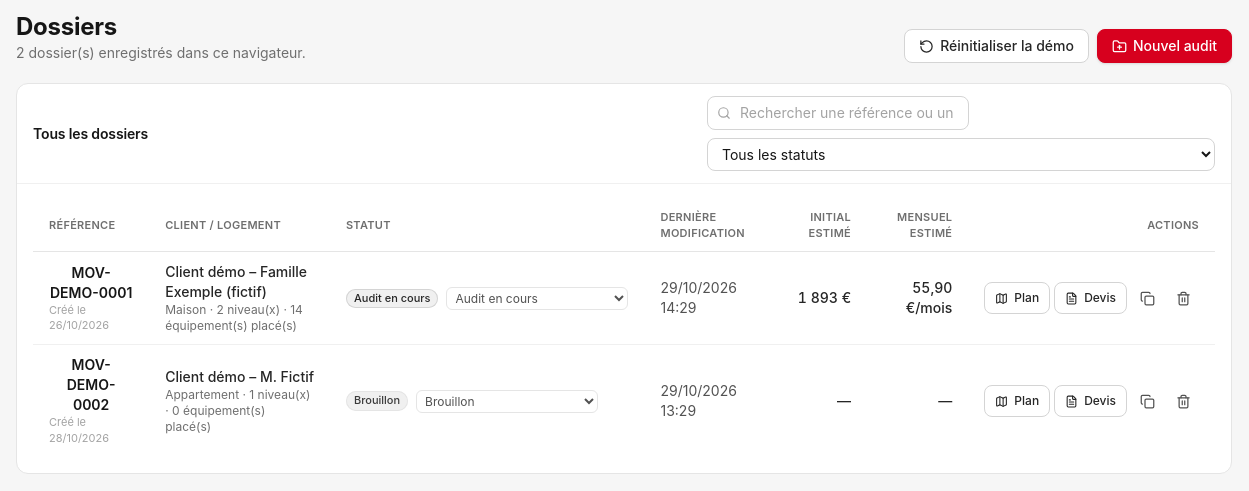
Scenario: tableau de bord et création de dossier › recherche par référence (vue Dossiers)
In the field named "Rechercher par référence": (838, 113) [707,96,969,130], type "0002"
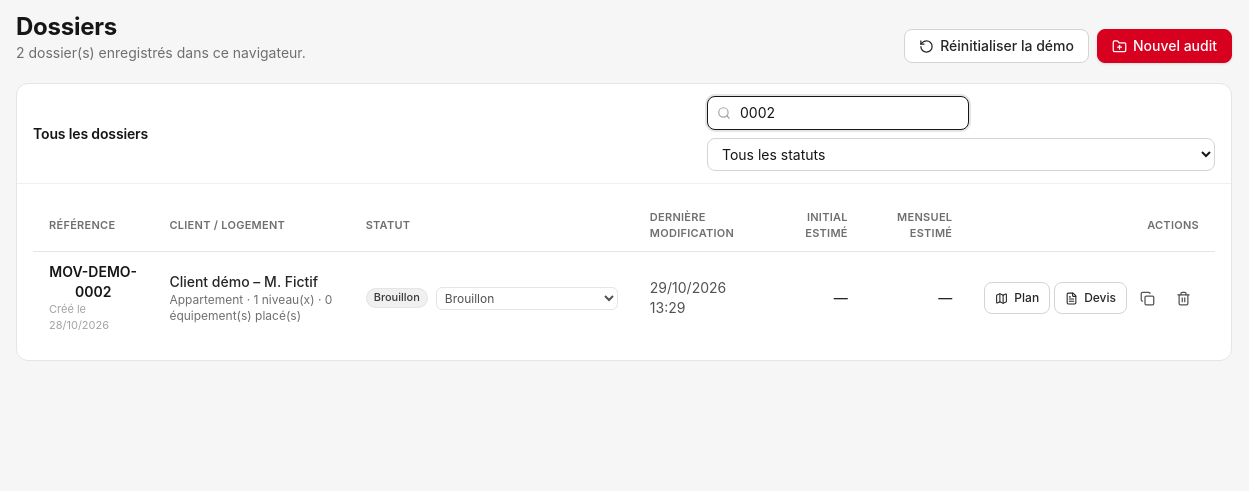
Expected: the row with test id "dossier-row-MOV-DEMO-0002" is shown, [33,252,1215,344]
Now the row with test id "dossier-row-MOV-DEMO-0001" is gone
